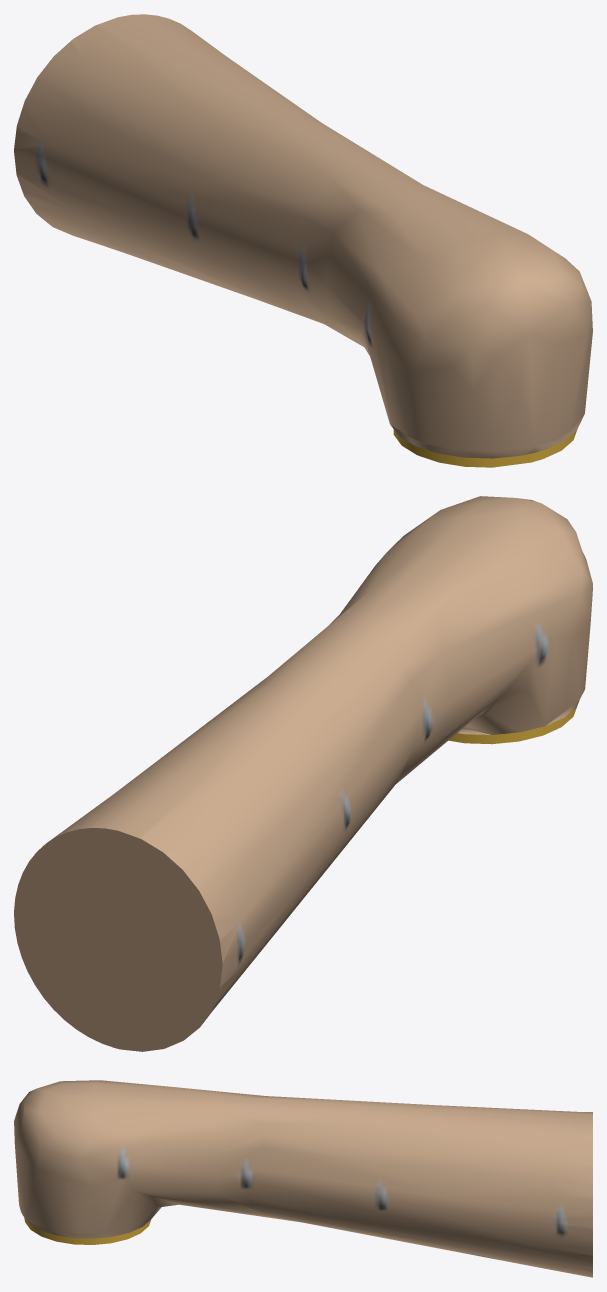
The model's file is link_forearm.3obj.obj.
3 renders of one model, top to bottom at view 1: azimuth 30°, elevation 25°; view 2: azimuth 150°, elevation 25°; view 3: azimuth 270°, elevation 25°, orthographic. The views are drawn at different scales.
Parts seen in each view (by area): view 1: link_forearm whole_robot; view 2: link_forearm whole_robot; view 3: link_forearm whole_robot.
Part boxes in pixels (box(x1,y1,x2,y2)): link_forearm whole_robot: box(14, 14, 592, 467); link_forearm whole_robot: box(14, 496, 592, 1051); link_forearm whole_robot: box(14, 1080, 592, 1277).
Size of the model in its own units: 0.09 by 0.1082 by 0.3145.
